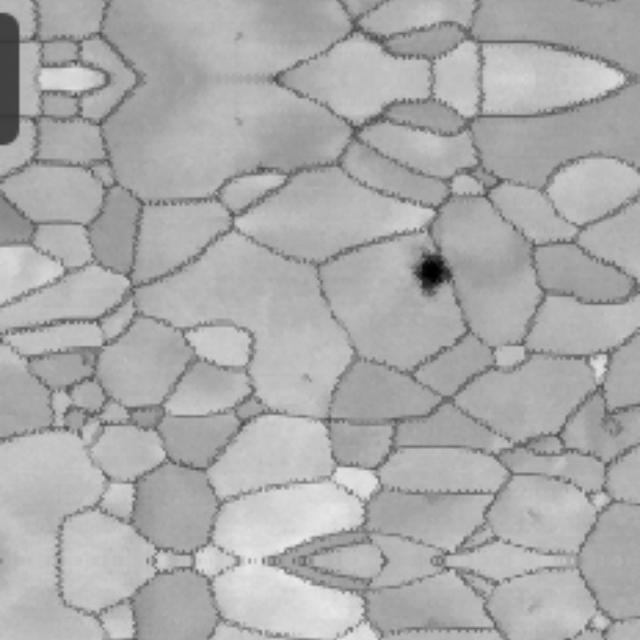good_void: (407, 238, 464, 301), (593, 409, 631, 440), (294, 368, 319, 390), (229, 111, 251, 132), (229, 26, 251, 47), (78, 351, 96, 371)
